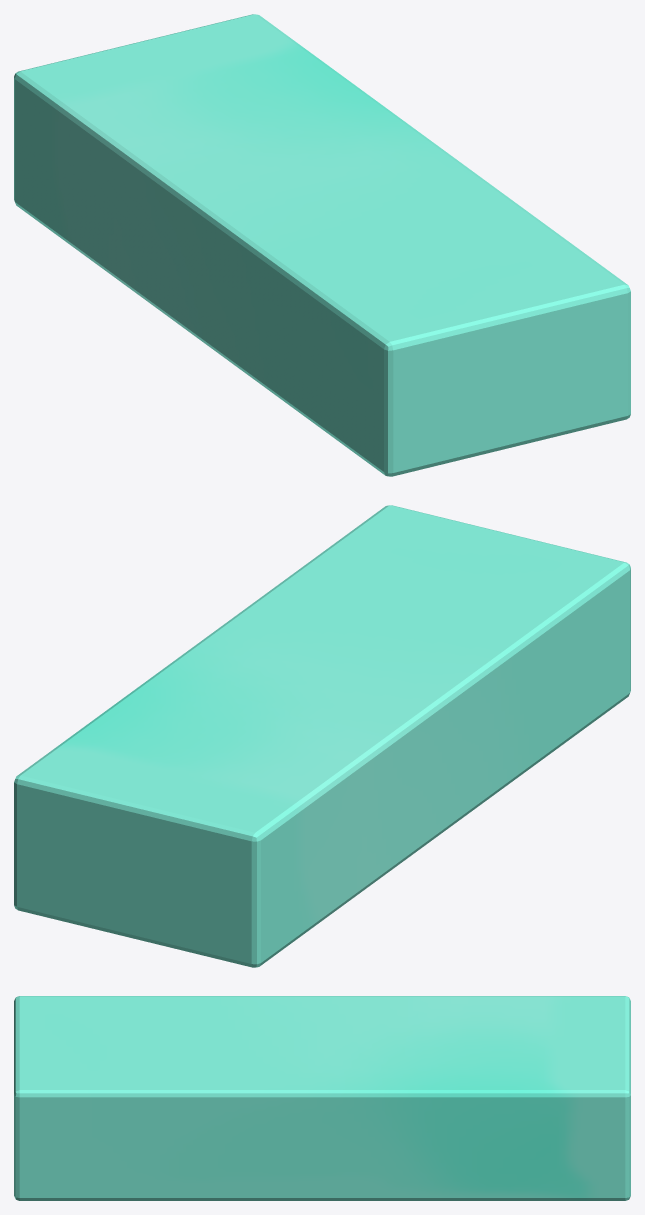
File: MissingKey1.fbx
The picture shows the model from 3 angles, top to bottom: view 1: azimuth 30°, elevation 25°; view 2: azimuth 150°, elevation 25°; view 3: azimuth 270°, elevation 25°; orthographic projection. The views are drawn at different scales.
Parts seen in each view (by area): view 1: Keys.002; view 2: Keys.002; view 3: Keys.002.
Boxes of the visible parts, x1,y1,x2,y2 form: Keys.002: [14, 14, 630, 476]; Keys.002: [14, 505, 630, 967]; Keys.002: [14, 996, 630, 1200].
Size of the model in its own units: 84.46 by 44.19 by 223.
